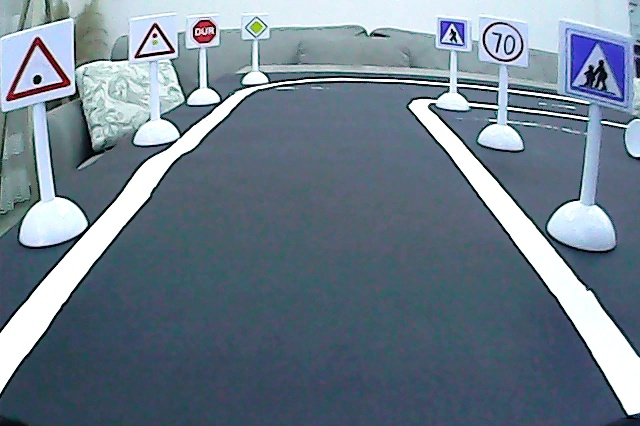green light: (3, 34, 73, 103)
pedestrian crossing: (436, 17, 469, 51)
red light: (134, 18, 178, 60)
school crossing: (563, 26, 631, 111)
speed limit 70: (480, 20, 526, 64)
stop sign: (190, 17, 218, 46)
